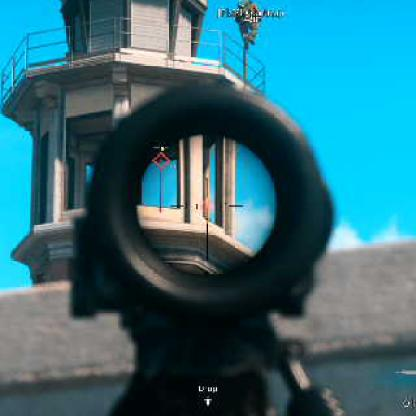enemy: (234, 1, 263, 51)
